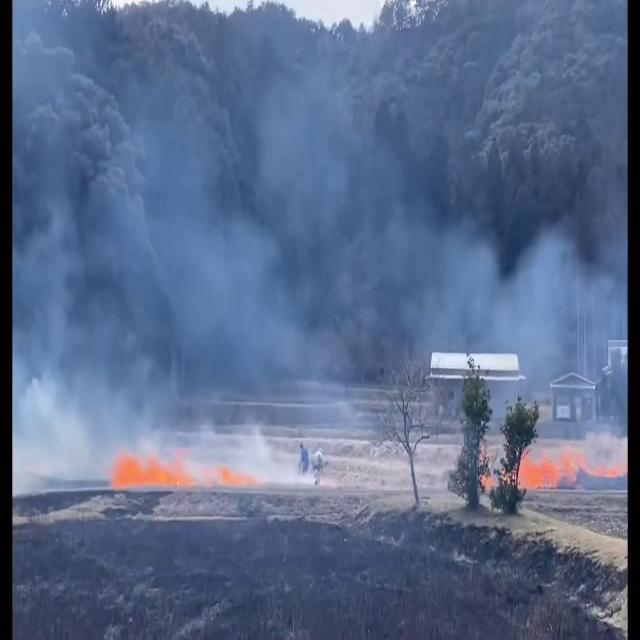Fire: (111, 441, 182, 498), (516, 451, 570, 485)
Smoke: (17, 0, 624, 482)
